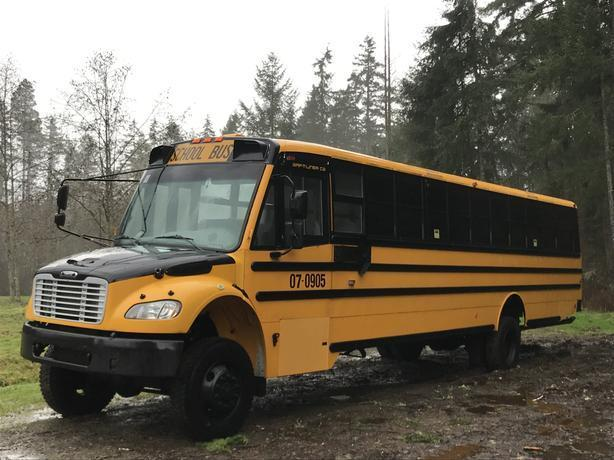Bus: (20, 136, 583, 441)
